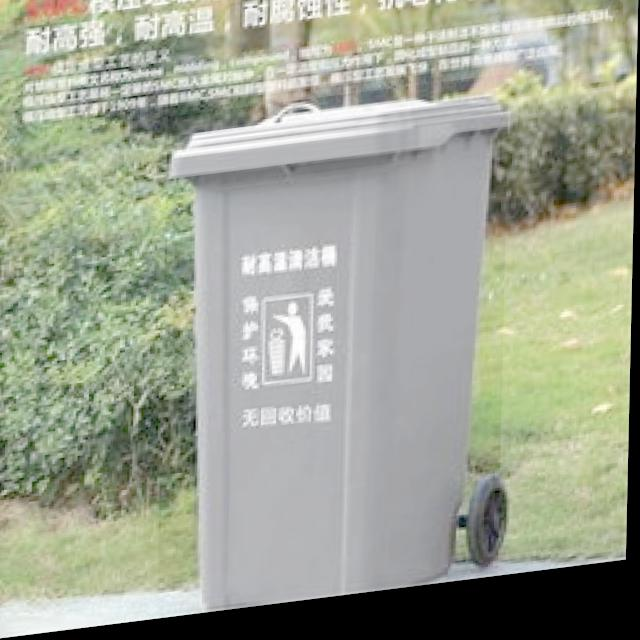garbage_bin: (160, 87, 510, 621)
